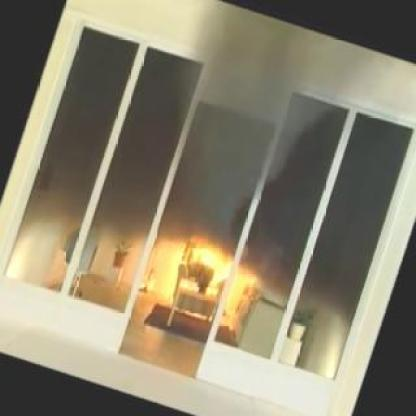Fire: (156, 226, 253, 316)
Smoke: (175, 0, 315, 214)
